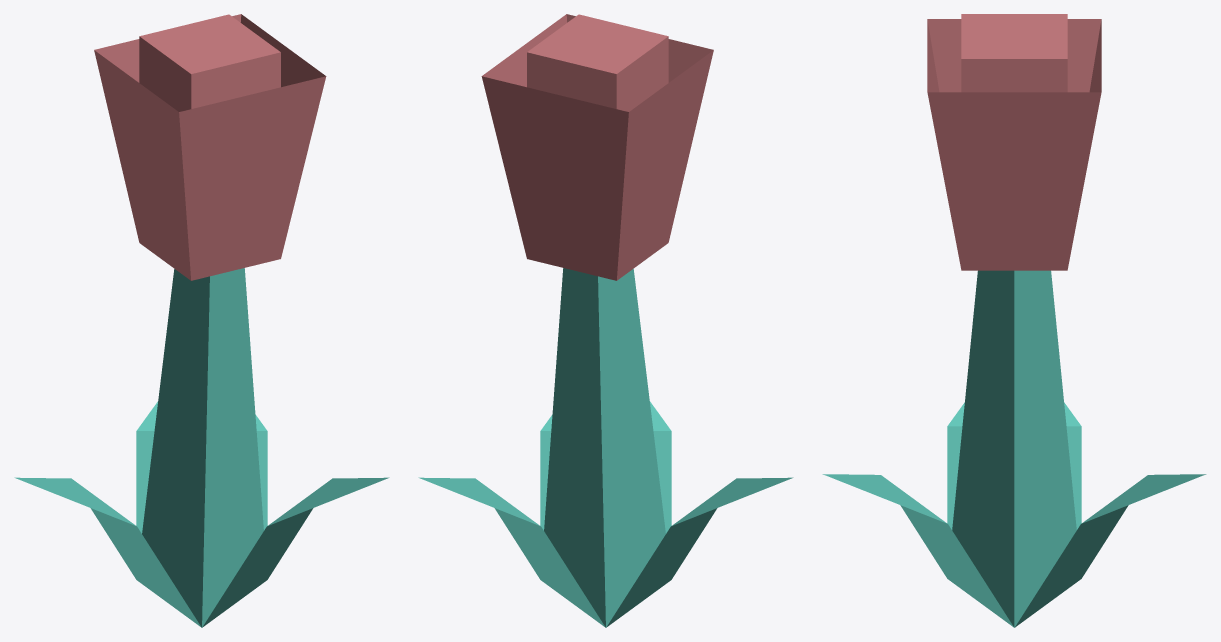
File: flower_redA.glb
3 renders of one model, left to right at view 1: azimuth 30°, elevation 25°; view 2: azimuth 150°, elevation 25°; view 3: azimuth 270°, elevation 25°, orthographic. The views are drawn at different scales.
Visible parts, largest first — view 1: flower_redA; view 2: flower_redA; view 3: flower_redA.
Boxes of the visible parts, x1,y1,x2,y2 form: flower_redA: (14, 14, 389, 627); flower_redA: (418, 14, 793, 627); flower_redA: (822, 14, 1206, 627).
Bounding box in the file's own units: 0.1591 × 0.2925 × 0.1811.
